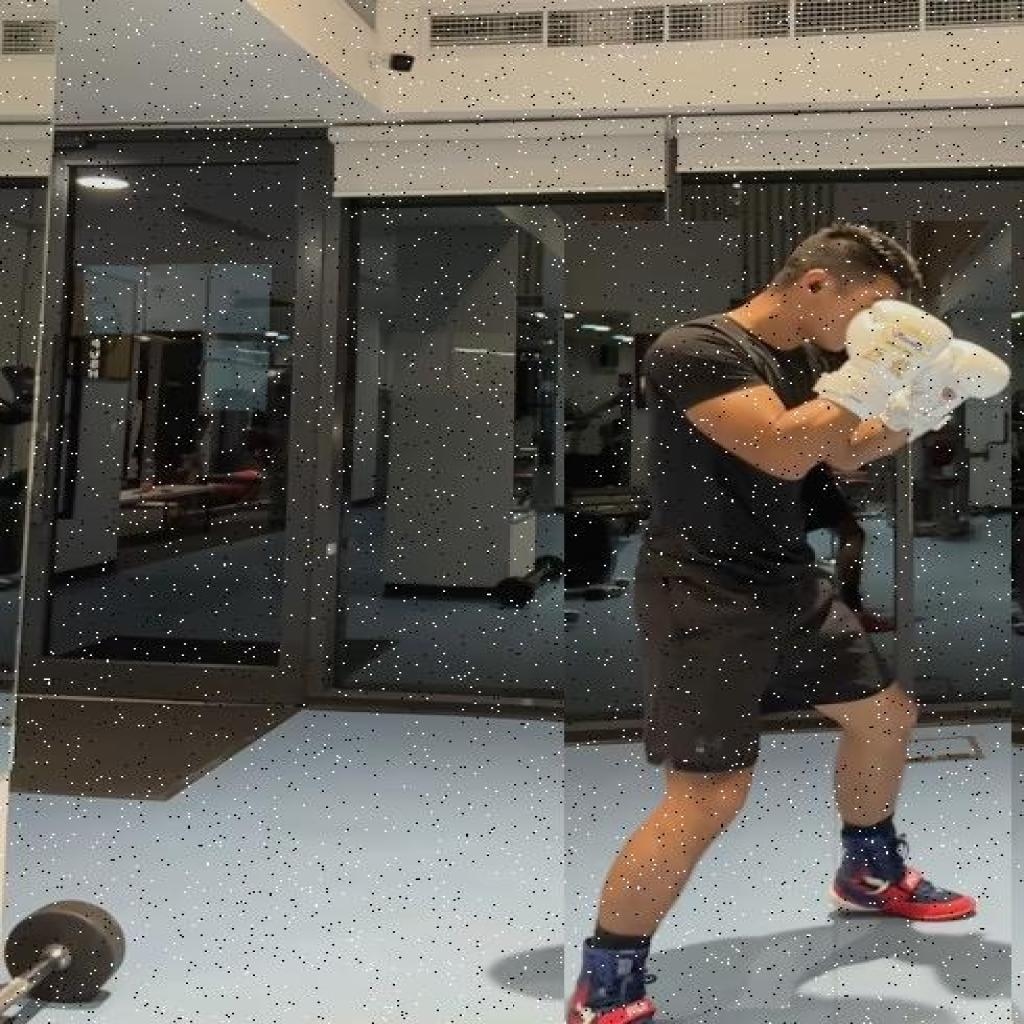no punch: (564, 221, 1013, 1024)
